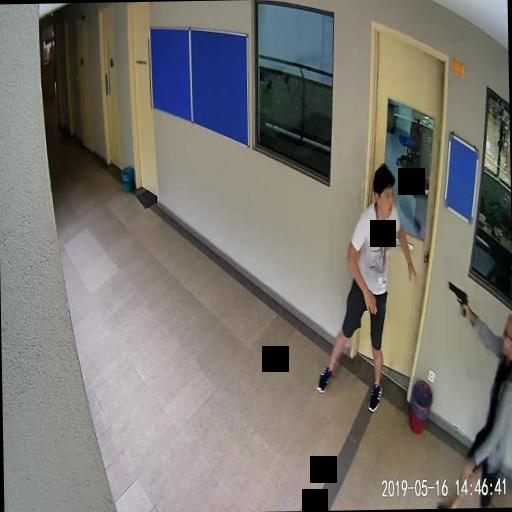Handgun: (444, 280, 470, 320)
